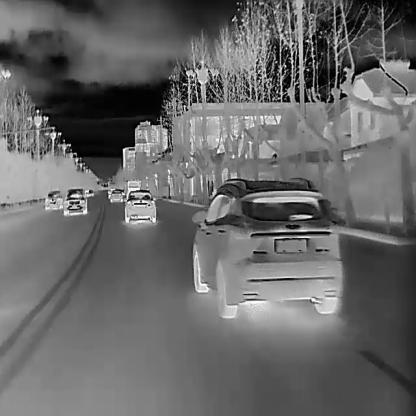bus: (125, 180, 140, 192)
car: (190, 176, 342, 317), (124, 188, 156, 223), (62, 188, 87, 215), (44, 190, 63, 210), (110, 188, 122, 202)
